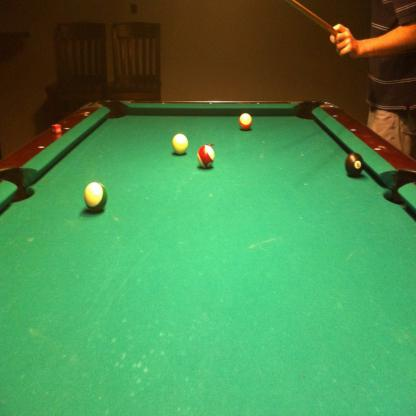Ball: (84, 182, 108, 212), (343, 150, 364, 176), (197, 145, 214, 169), (172, 134, 188, 158), (239, 114, 253, 132)
